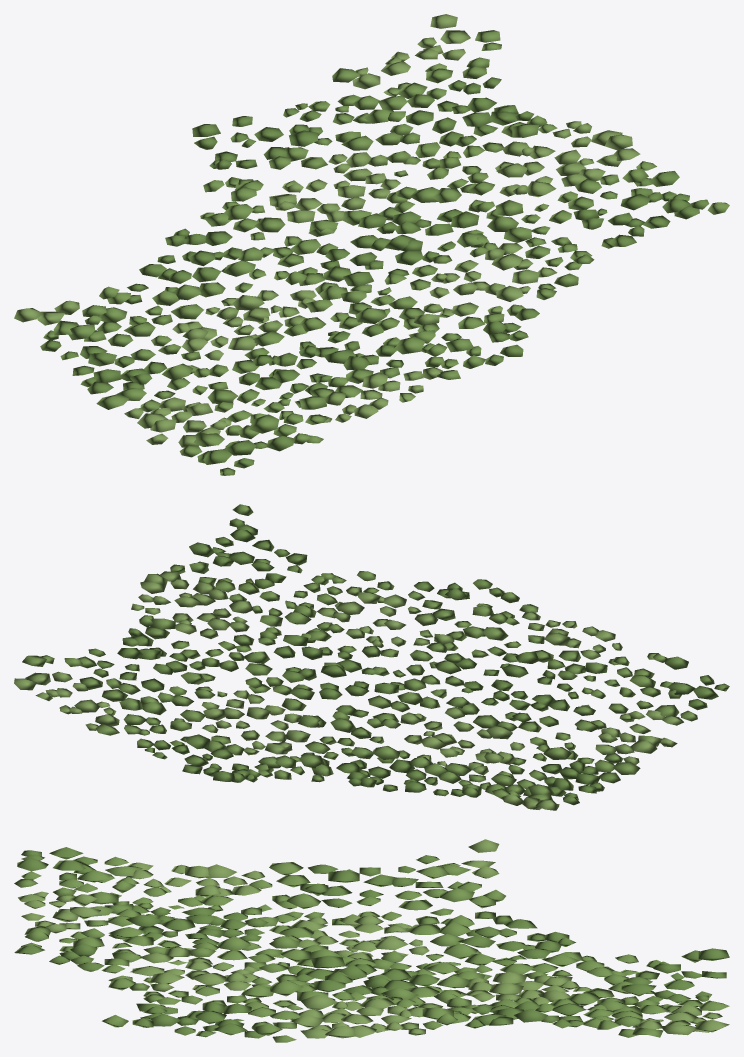
File: canopy-1--4--6.glb
3 views of the same model, one above another, from view 1: azimuth 30°, elevation 25°; view 2: azimuth 150°, elevation 25°; view 3: azimuth 270°, elevation 25° (orthographic). The views are drawn at different scales.
Bounding box in the file's own units: 518 × 118 × 512.
Materials: 1 (1 with a texture image).
